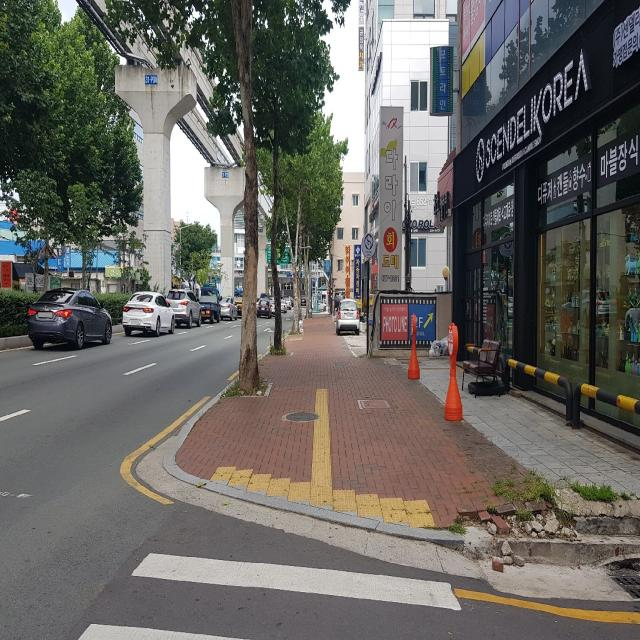횡단보도: (76, 550, 462, 640)
